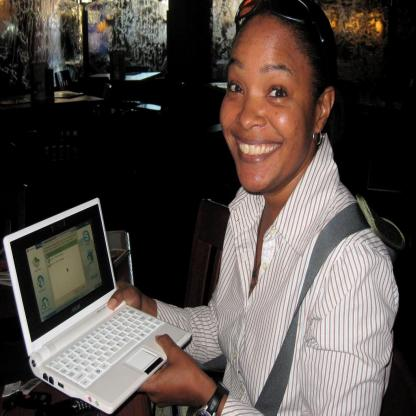board: (5, 201, 198, 411)
